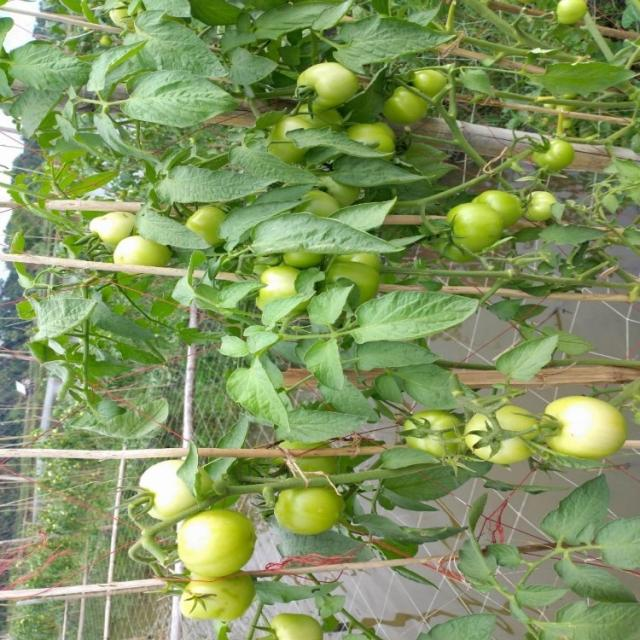tomato: (535, 381, 632, 467), (156, 498, 257, 578), (131, 454, 231, 527), (162, 558, 257, 633), (266, 467, 344, 540), (462, 396, 535, 472), (390, 403, 465, 459), (284, 53, 360, 107), (436, 189, 493, 256), (252, 109, 314, 168), (103, 234, 171, 287), (246, 259, 315, 307), (402, 46, 456, 105), (370, 84, 429, 138), (320, 256, 385, 303), (177, 203, 233, 252), (339, 114, 398, 159), (85, 205, 140, 251), (472, 176, 515, 229), (266, 607, 329, 640), (528, 128, 571, 176), (515, 188, 556, 225), (551, 1, 591, 31)
